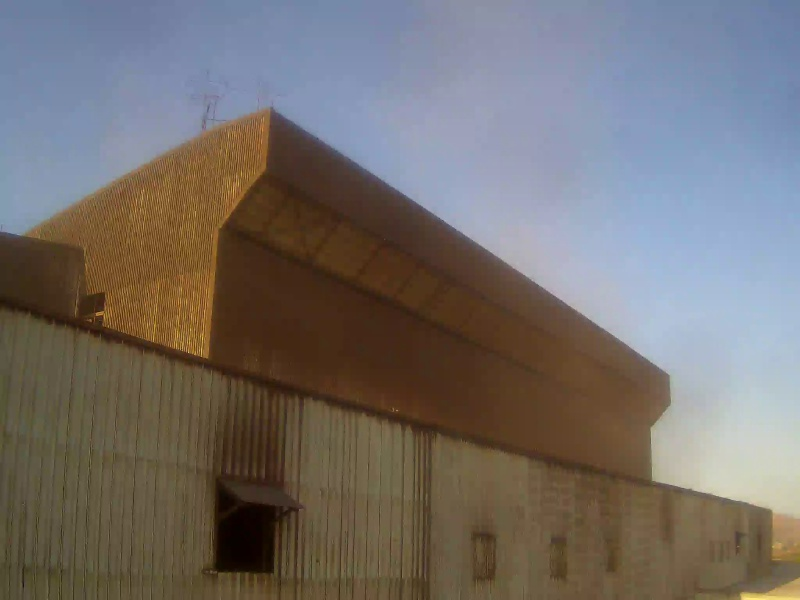Pessimo: (265, 106, 681, 533)
